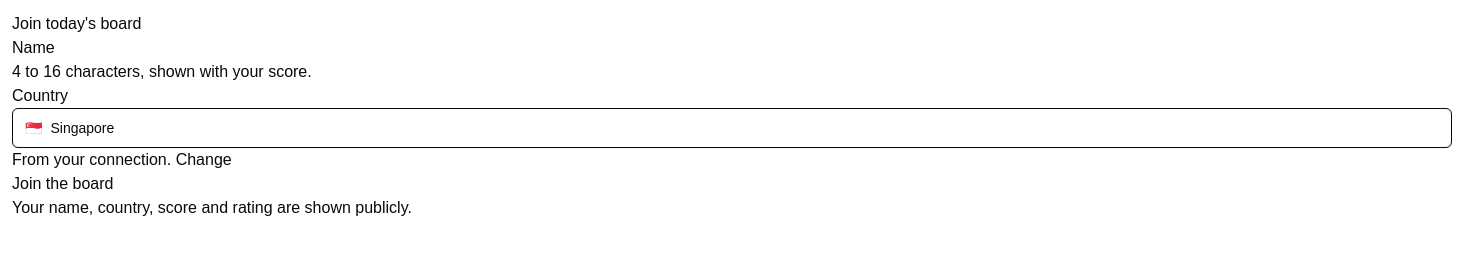
joining the daily board › says in the player's language that the join failed, whatever English reason the server gives, and lets them try again
Expected: the text "From your connection." is shown, [12, 151, 171, 168]
Type "Poteto" into the field labelled "Name" at (158, 48), box [55, 36, 262, 60]
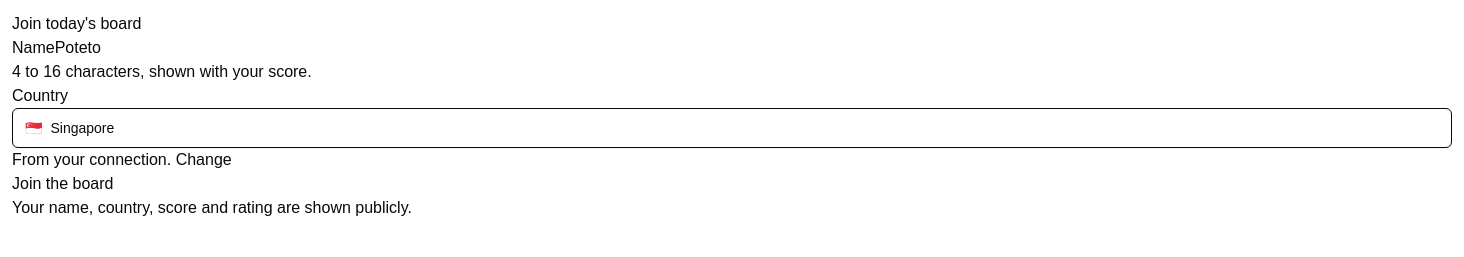
Click the button "Join the board" at (63, 184), box [12, 172, 113, 196]
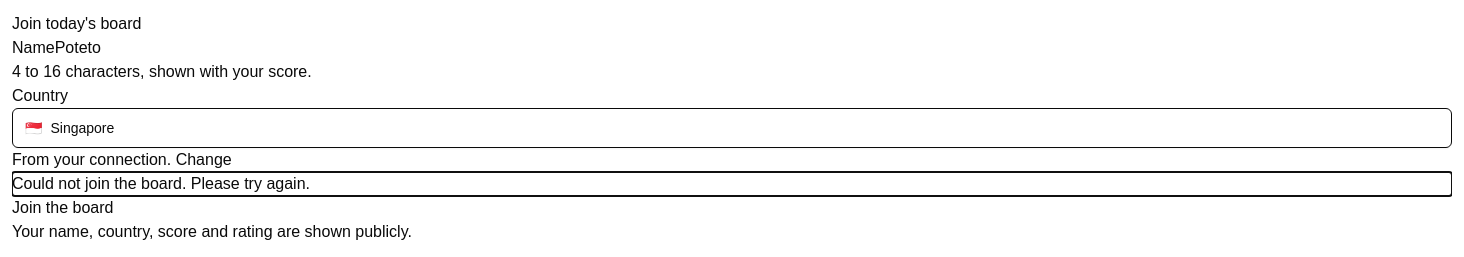
Now the button "Join the board" is enabled, box [12, 196, 113, 220]
Now the message reads "Could not join the board. Please try again.", box [12, 175, 310, 192]
